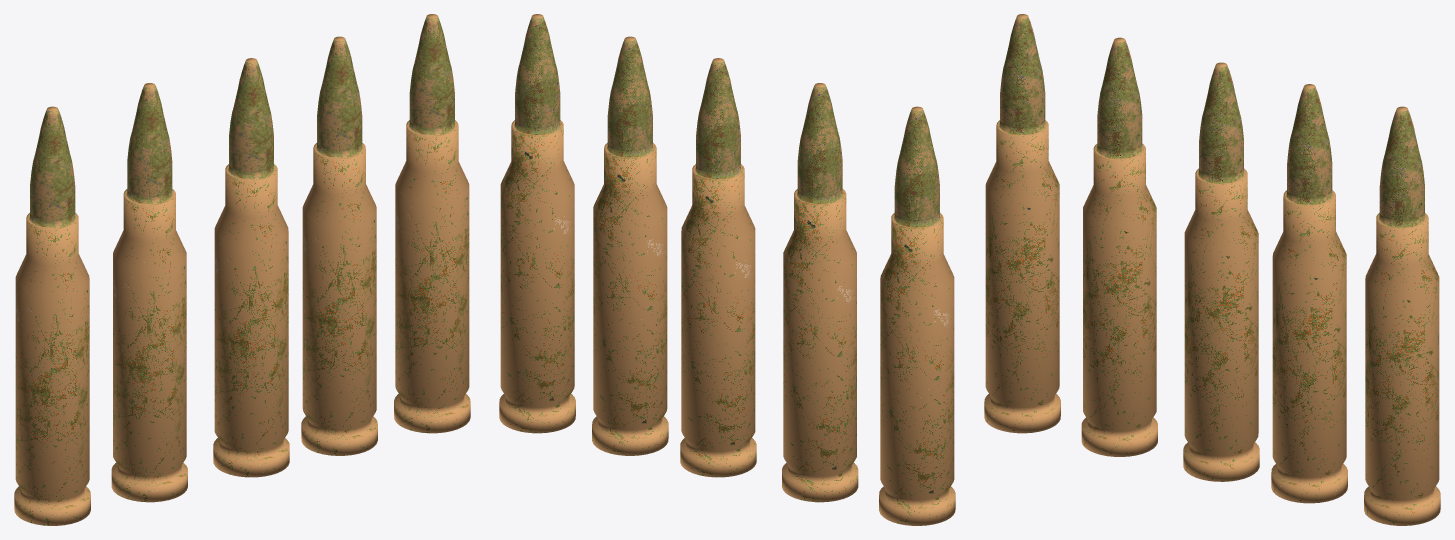
File: 7.92×57mm ammo pickup.glb
3 renders of one model, left to right at view 1: azimuth 30°, elevation 25°; view 2: azimuth 150°, elevation 25°; view 3: azimuth 330°, elevation 25°, orthographic.
Parts seen in each view (by area): view 1: Cylinder.003, Cylinder.001, Cylinder.004, Cylinder, Cylinder.002; view 2: Cylinder.003, Cylinder.001, Cylinder.004, Cylinder, Cylinder.002; view 3: Cylinder.001, Cylinder.004, Cylinder.003, Cylinder, Cylinder.002.
Boxes of the visible parts, left/top/right/bottom form: Cylinder.003: left=394, top=14, right=470, bottom=433; Cylinder.001: left=301, top=36, right=377, bottom=455; Cylinder.004: left=14, top=106, right=90, bottom=525; Cylinder: left=213, top=58, right=289, bottom=477; Cylinder.002: left=111, top=83, right=187, bottom=502; Cylinder.003: left=499, top=14, right=575, bottom=433; Cylinder.001: left=592, top=36, right=668, bottom=455; Cylinder.004: left=879, top=106, right=955, bottom=525; Cylinder: left=680, top=58, right=756, bottom=477; Cylinder.002: left=782, top=83, right=858, bottom=502; Cylinder.001: left=1271, top=84, right=1347, bottom=503; Cylinder.004: left=984, top=14, right=1060, bottom=433; Cylinder.003: left=1364, top=106, right=1440, bottom=525; Cylinder: left=1183, top=62, right=1259, bottom=481; Cylinder.002: left=1081, top=37, right=1157, bottom=456.
Bounding box in the file's own units: 0.057 × 0.0489 × 0.00848.
3 materials, 3 textured.
